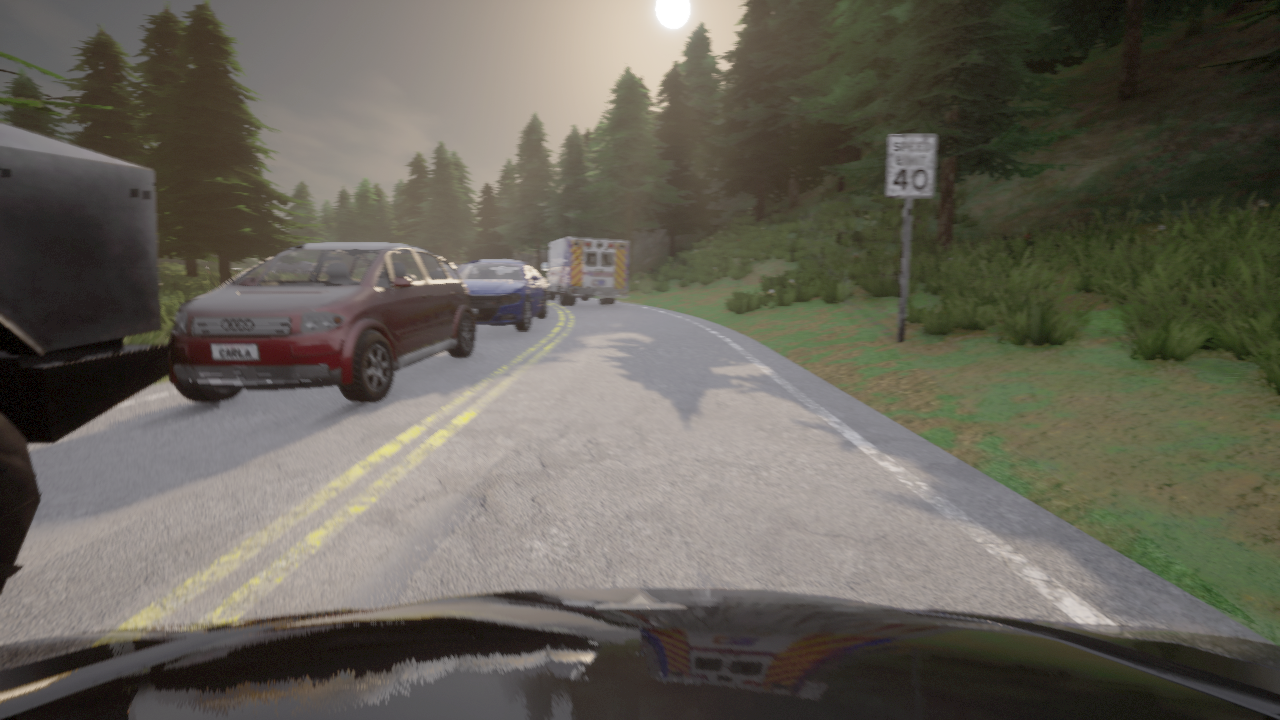cyclist: (0, 588, 1279, 719), (168, 243, 475, 403), (458, 259, 546, 331), (542, 237, 628, 304), (451, 263, 464, 271)
